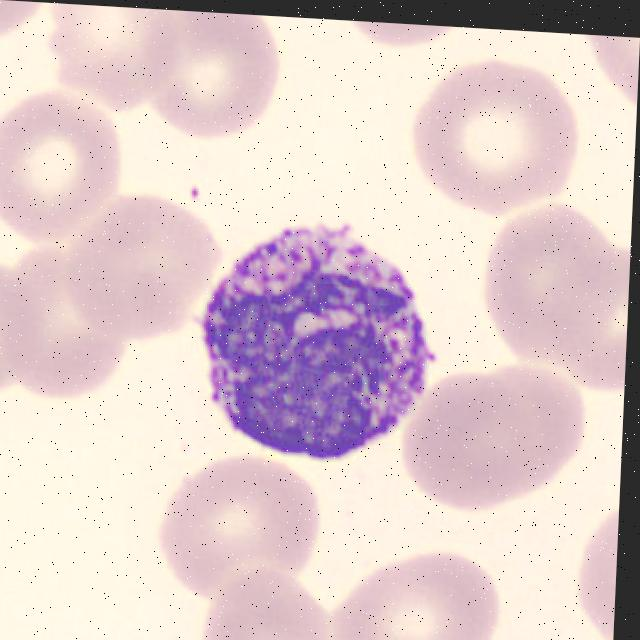basophil: (200, 203, 438, 457)
rbc: (408, 54, 591, 219), (140, 447, 329, 600), (473, 181, 624, 372), (12, 243, 157, 419), (411, 375, 589, 517), (0, 75, 134, 242), (73, 195, 218, 339), (321, 536, 506, 640), (155, 11, 295, 136), (48, 3, 180, 112), (564, 240, 631, 396), (202, 560, 330, 640), (0, 243, 48, 402), (562, 33, 639, 110), (576, 509, 619, 640), (346, 21, 464, 51)
